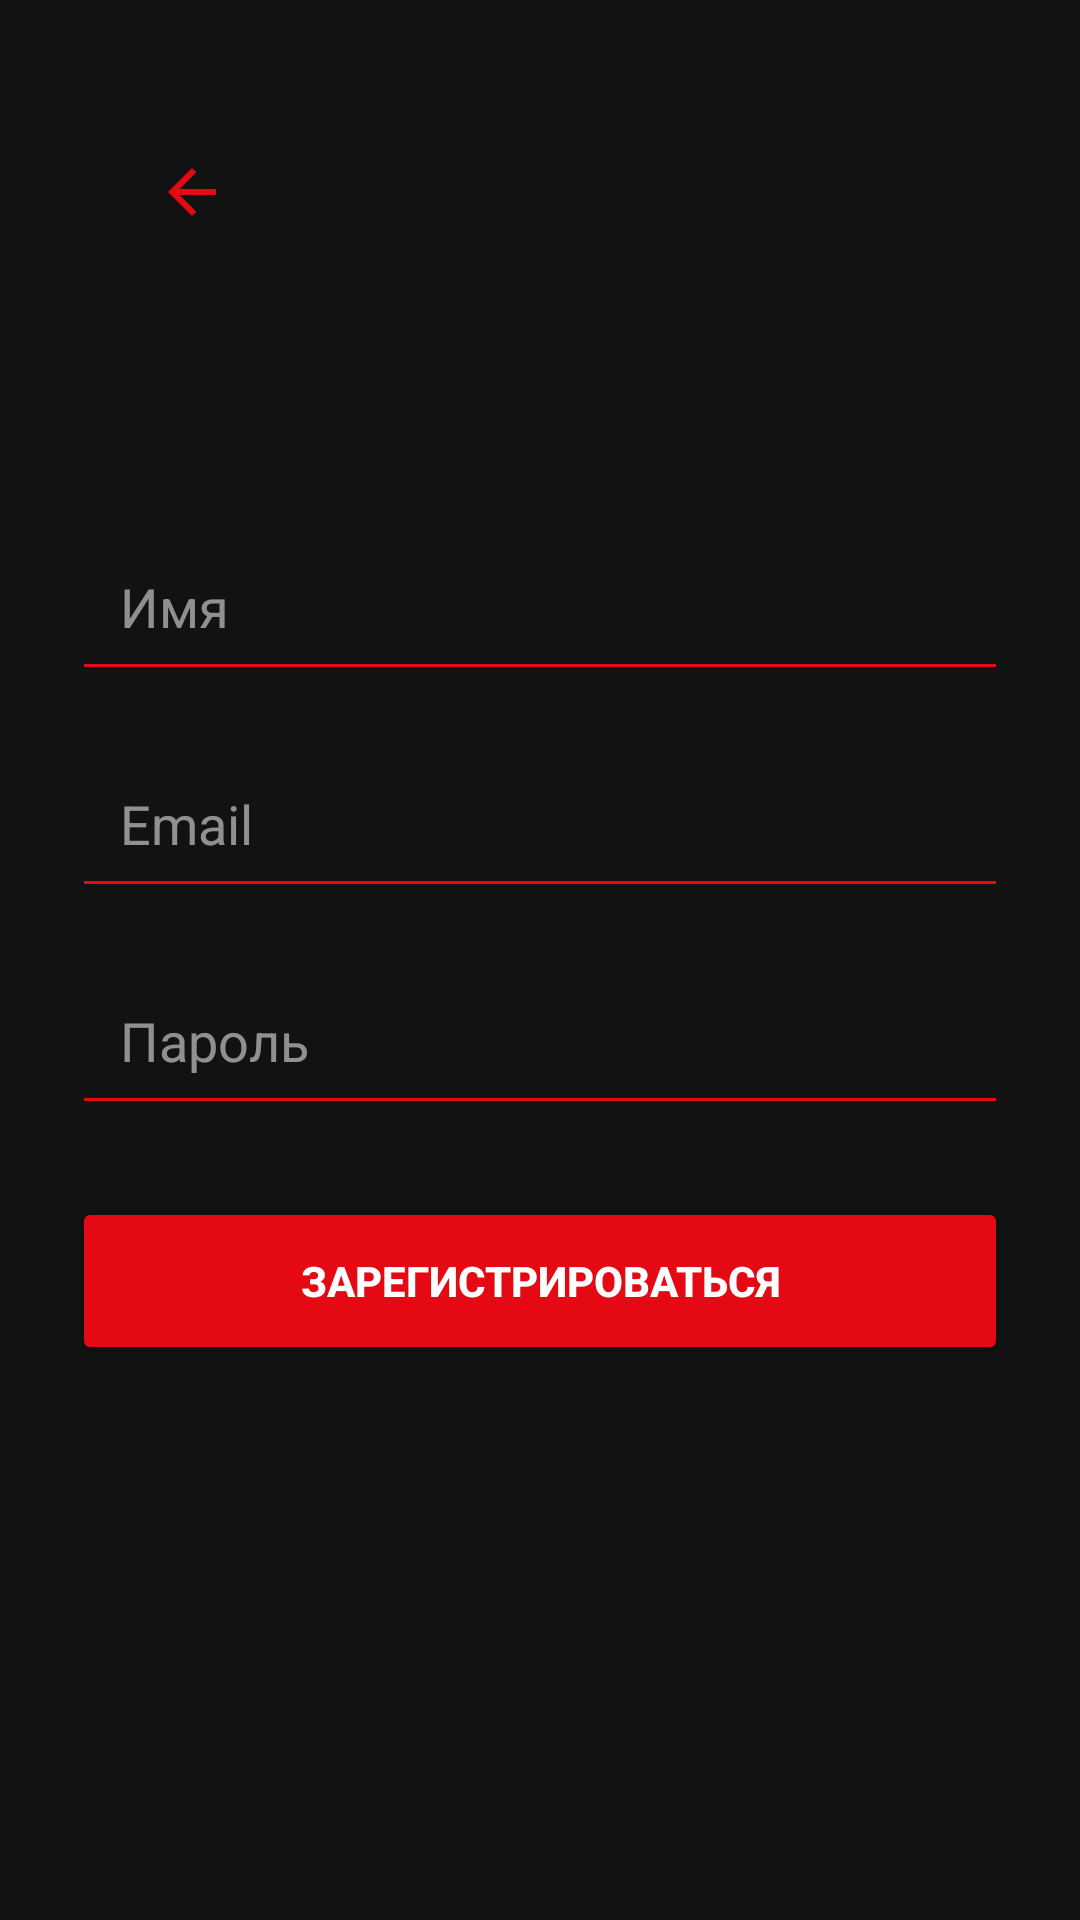

Icon click points for this 1080×1920 phone screenshot, format [x,y]:
Назад: [192,192]
